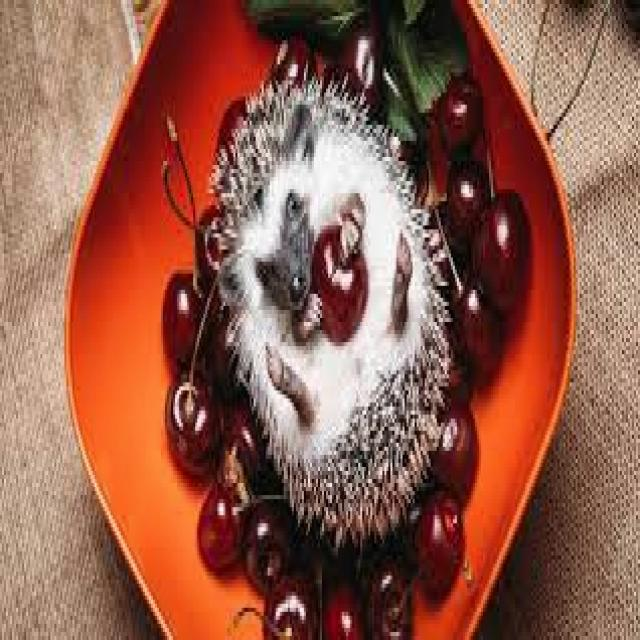hedgehog: (213, 72, 451, 543)
